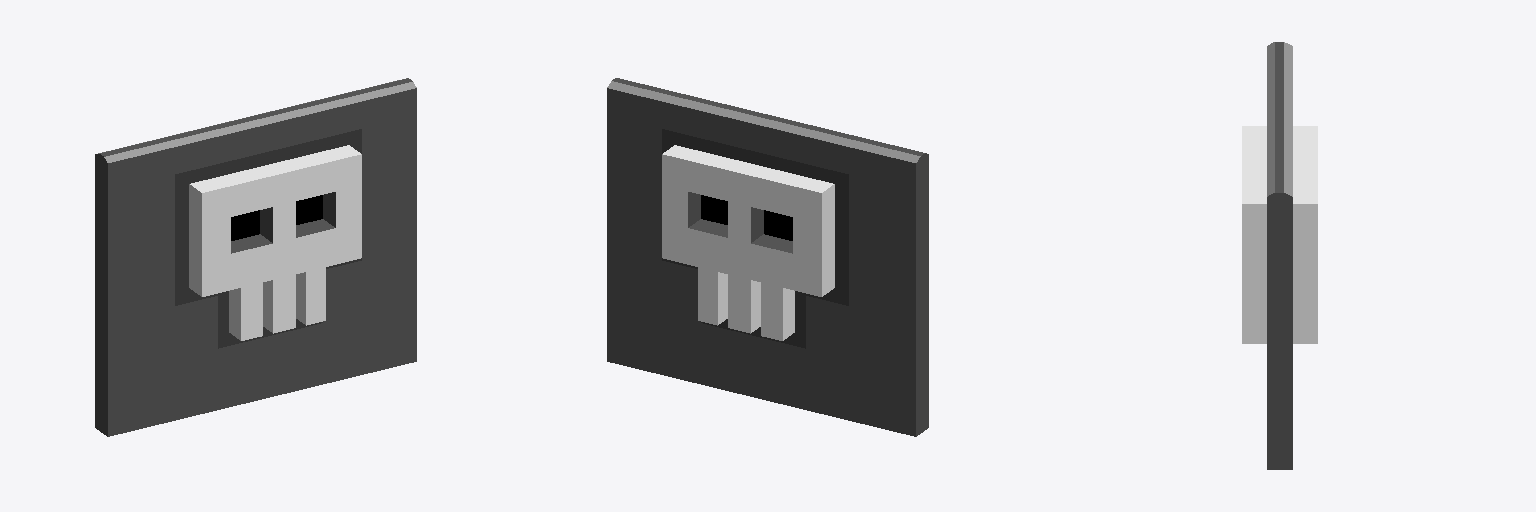
The picture shows the model from 3 angles: view 1: azimuth 30°, elevation 25°; view 2: azimuth 150°, elevation 25°; view 3: azimuth 270°, elevation 25°; orthographic projection.
Parts seen in each view (by area): view 1: Cube.005; view 2: Cube.005; view 3: Cube.005.
Part boxes in pixels (x1,y1,x2,y2): Cube.005: (95,78,416,436); Cube.005: (607,78,928,436); Cube.005: (1242,42,1317,469).
Size of the model in its own units: 90.23 by 77.39 by 19.2.
Materials: 1 (1 with a texture image).